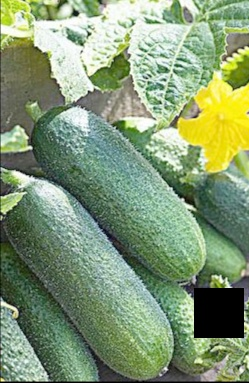cucumber: (3, 180, 164, 371), (42, 108, 203, 282)
cucumber_plant: (30, 4, 246, 105)
